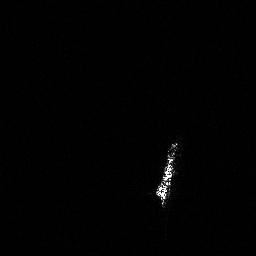ship: (151, 137, 182, 211)
